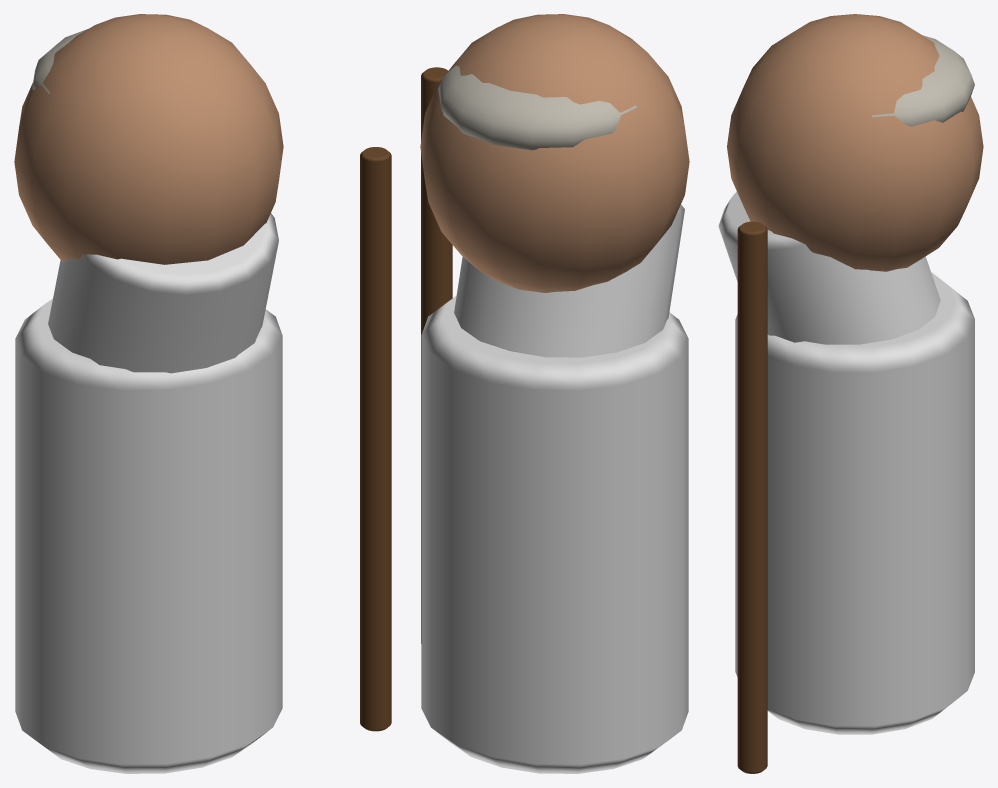
Rendered from elder.45007102.glb.
3 renders of one model, left to right at view 1: azimuth 30°, elevation 25°; view 2: azimuth 150°, elevation 25°; view 3: azimuth 270°, elevation 25°, orthographic. The views are drawn at different scales.
Visible parts, largest first — view 1: accent, body; view 2: accent, body; view 3: accent, body.
Boxes of the visible parts, x1=… form: accent: x1=15, y1=213, x2=282, y2=773; body: x1=14, y1=14, x2=391, y2=731; accent: x1=421, y1=204, x2=688, y2=773; body: x1=420, y1=14, x2=689, y2=643; accent: x1=718, y1=191, x2=974, y2=734; body: x1=727, y1=14, x2=983, y2=773.
Size of the model in its own units: 0.3872 by 0.8575 by 0.3099.
